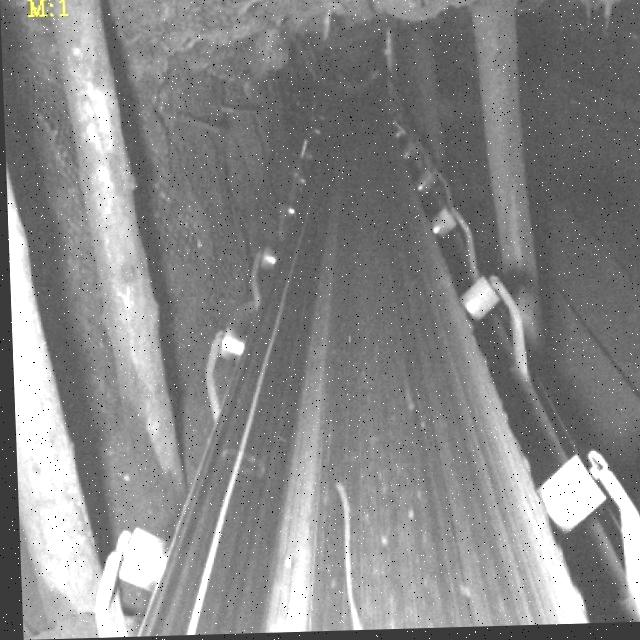bolt: (321, 482, 368, 633)
